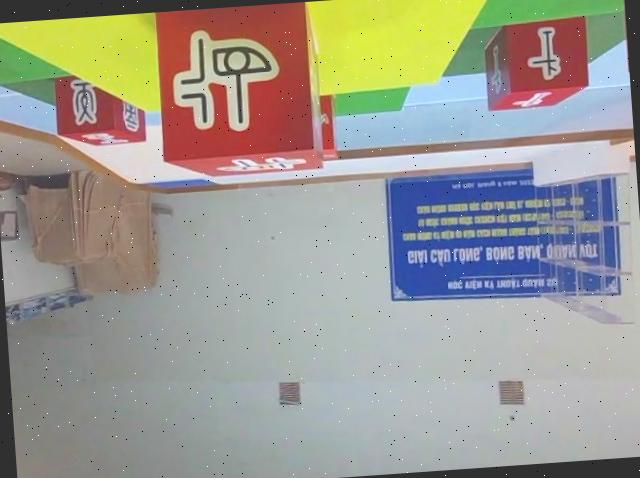R2 Fake: (50, 59, 146, 146)
R2 Real: (149, 0, 322, 180), (479, 12, 589, 109)
